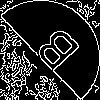B: (25, 25, 82, 80)
